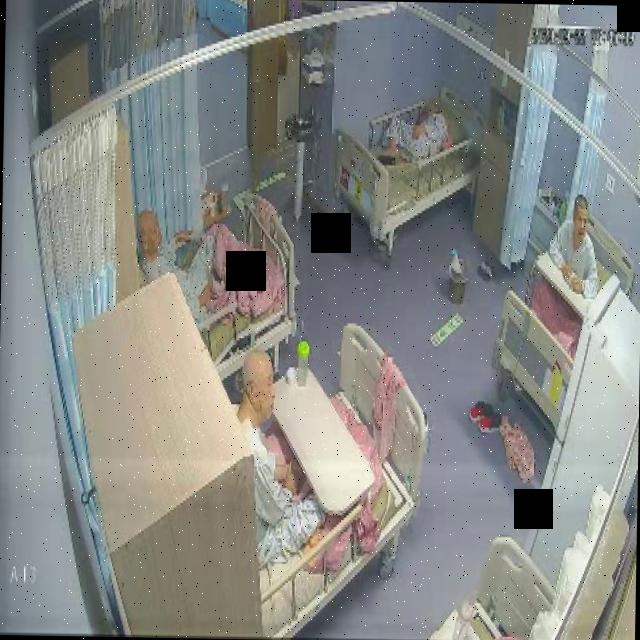bed: (227, 325, 427, 640), (491, 213, 634, 430), (160, 198, 296, 383), (337, 83, 482, 243)
lie: (377, 96, 455, 166)
patient: (232, 356, 330, 564), (136, 195, 224, 332), (549, 190, 600, 298), (378, 96, 456, 164)
sit: (231, 357, 329, 565), (136, 196, 259, 333), (548, 191, 601, 298)
